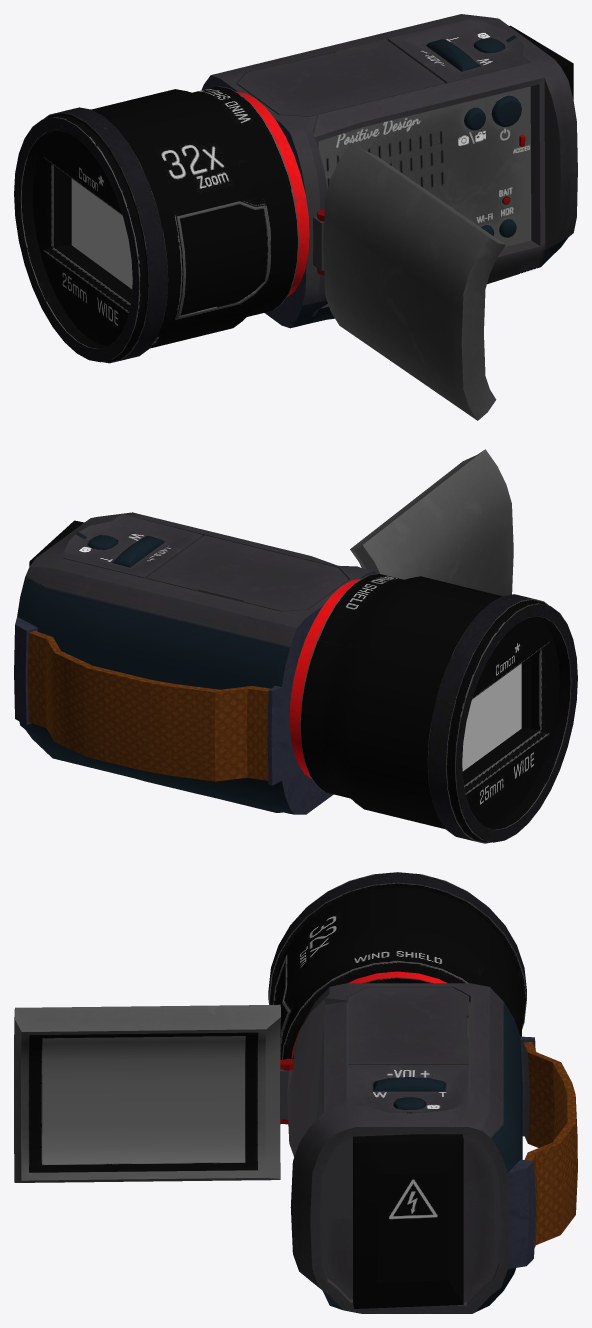
The model's file is camera.fbx.
3 views of the same model, one above another, from view 1: azimuth 30°, elevation 25°; view 2: azimuth 150°, elevation 25°; view 3: azimuth 270°, elevation 25° (orthographic). The views are drawn at different scales.
Visible parts, largest first — view 1: defaultMaterial.007, defaultMaterial.006, defaultMaterial.005, defaultMaterial.001, defaultMaterial.004, defaultMaterial.002; view 2: defaultMaterial.006, defaultMaterial.007, defaultMaterial.005, defaultMaterial.001; view 3: defaultMaterial.006, defaultMaterial.005, defaultMaterial.007, defaultMaterial.002.
Part boxes in pixels (x1,y1,x2,y2): defaultMaterial.007: (14,86,309,363); defaultMaterial.006: (201,14,577,328); defaultMaterial.005: (317,142,505,420); defaultMaterial.001: (71,178,132,289); defaultMaterial.004: (464,95,525,204); defaultMaterial.002: (509,25,573,99); defaultMaterial.006: (14,512,376,814); defaultMaterial.007: (289,573,577,843); defaultMaterial.005: (350,449,513,596); defaultMaterial.001: (462,663,521,771); defaultMaterial.006: (280,983,577,1313); defaultMaterial.005: (14,1004,293,1182); defaultMaterial.007: (268,872,526,1059); defaultMaterial.002: (353,1134,463,1308).
Bounding box in the file's own units: 3688 × 1731 × 3724.
